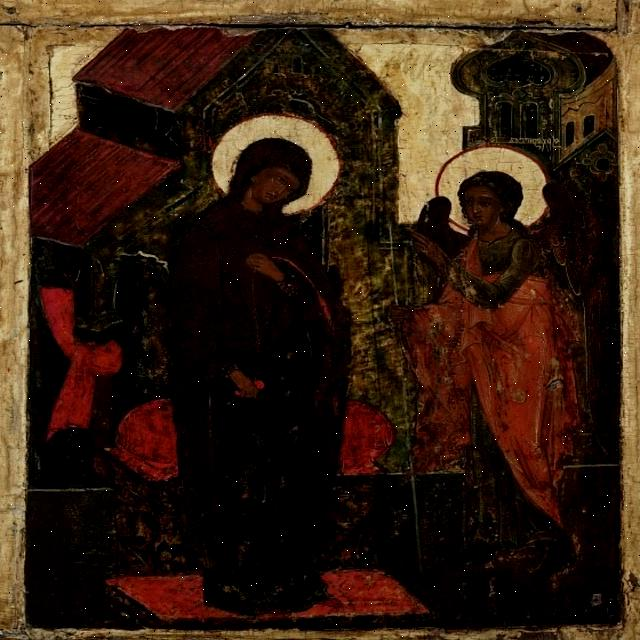angel: (408, 146, 621, 586)
aura: (211, 113, 344, 219), (436, 144, 553, 235)
mary: (160, 111, 359, 626)
tower: (452, 28, 621, 146)
wing: (538, 168, 621, 456), (417, 196, 468, 257)
